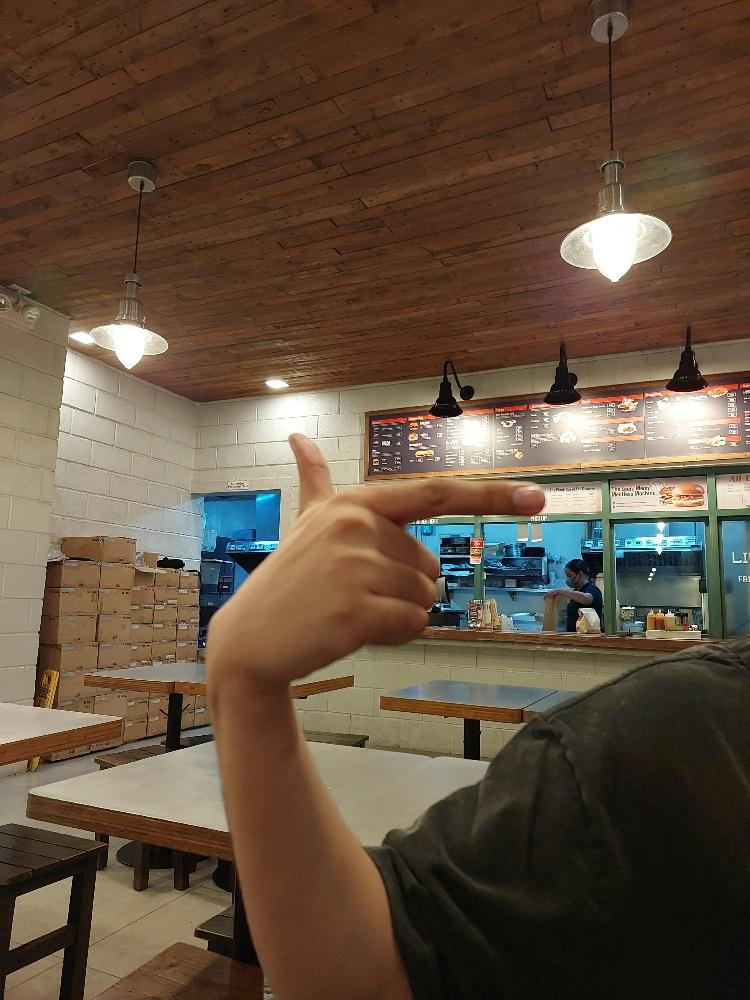g: (202, 429, 547, 690)
